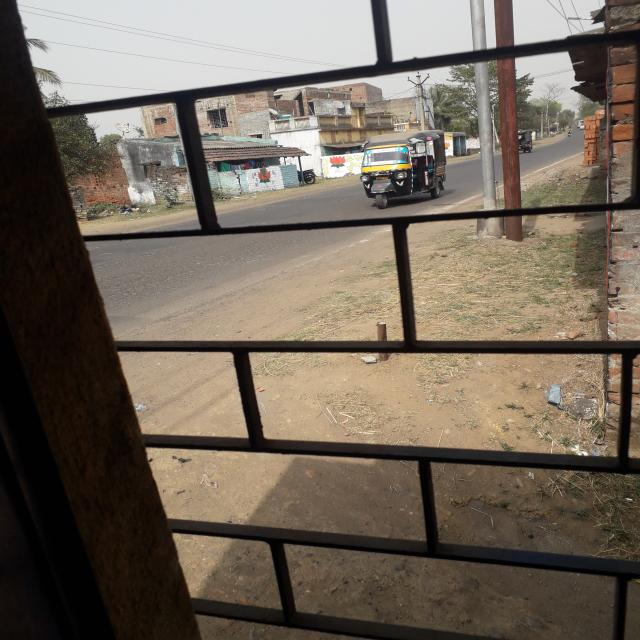Bike: (295, 166, 324, 186), (566, 130, 573, 136)
Bus: (576, 118, 586, 127)
Car: (578, 123, 586, 131)
tempo: (356, 128, 454, 210), (514, 128, 535, 156)
